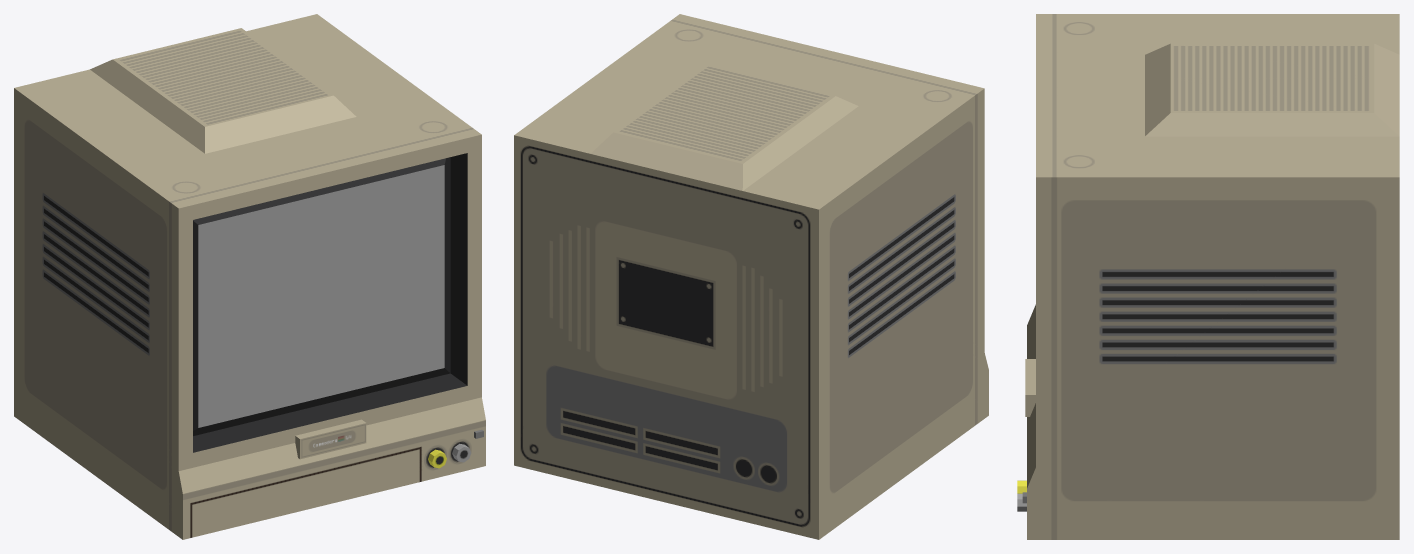
The model's file is monitor.gltf.
The picture shows the model from 3 angles, left to right: view 1: azimuth 30°, elevation 25°; view 2: azimuth 150°, elevation 25°; view 3: azimuth 270°, elevation 25°; orthographic projection. The views are drawn at different scales.
Visible parts, largest first — view 1: node-0; view 2: node-0; view 3: node-0.
Part boxes in pixels (<box>): node-0: <box>14,14,485,539</box>; node-0: <box>514,14,988,539</box>; node-0: <box>1017,14,1399,539</box>.
Size of the model in its own units: 213 by 232 by 210.
Materials: 1 (1 with a texture image).
